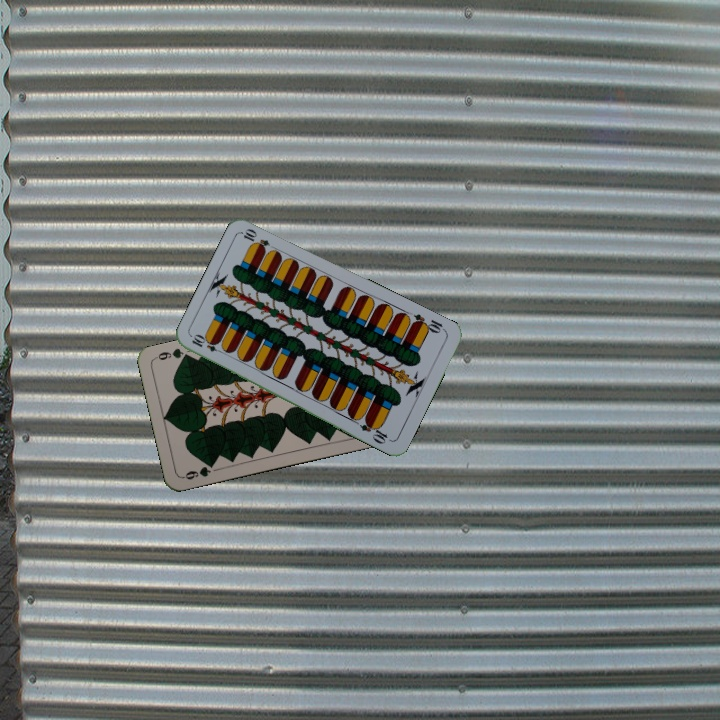E10: (408, 310, 448, 336), (188, 332, 227, 356)
G9: (179, 458, 217, 482)
